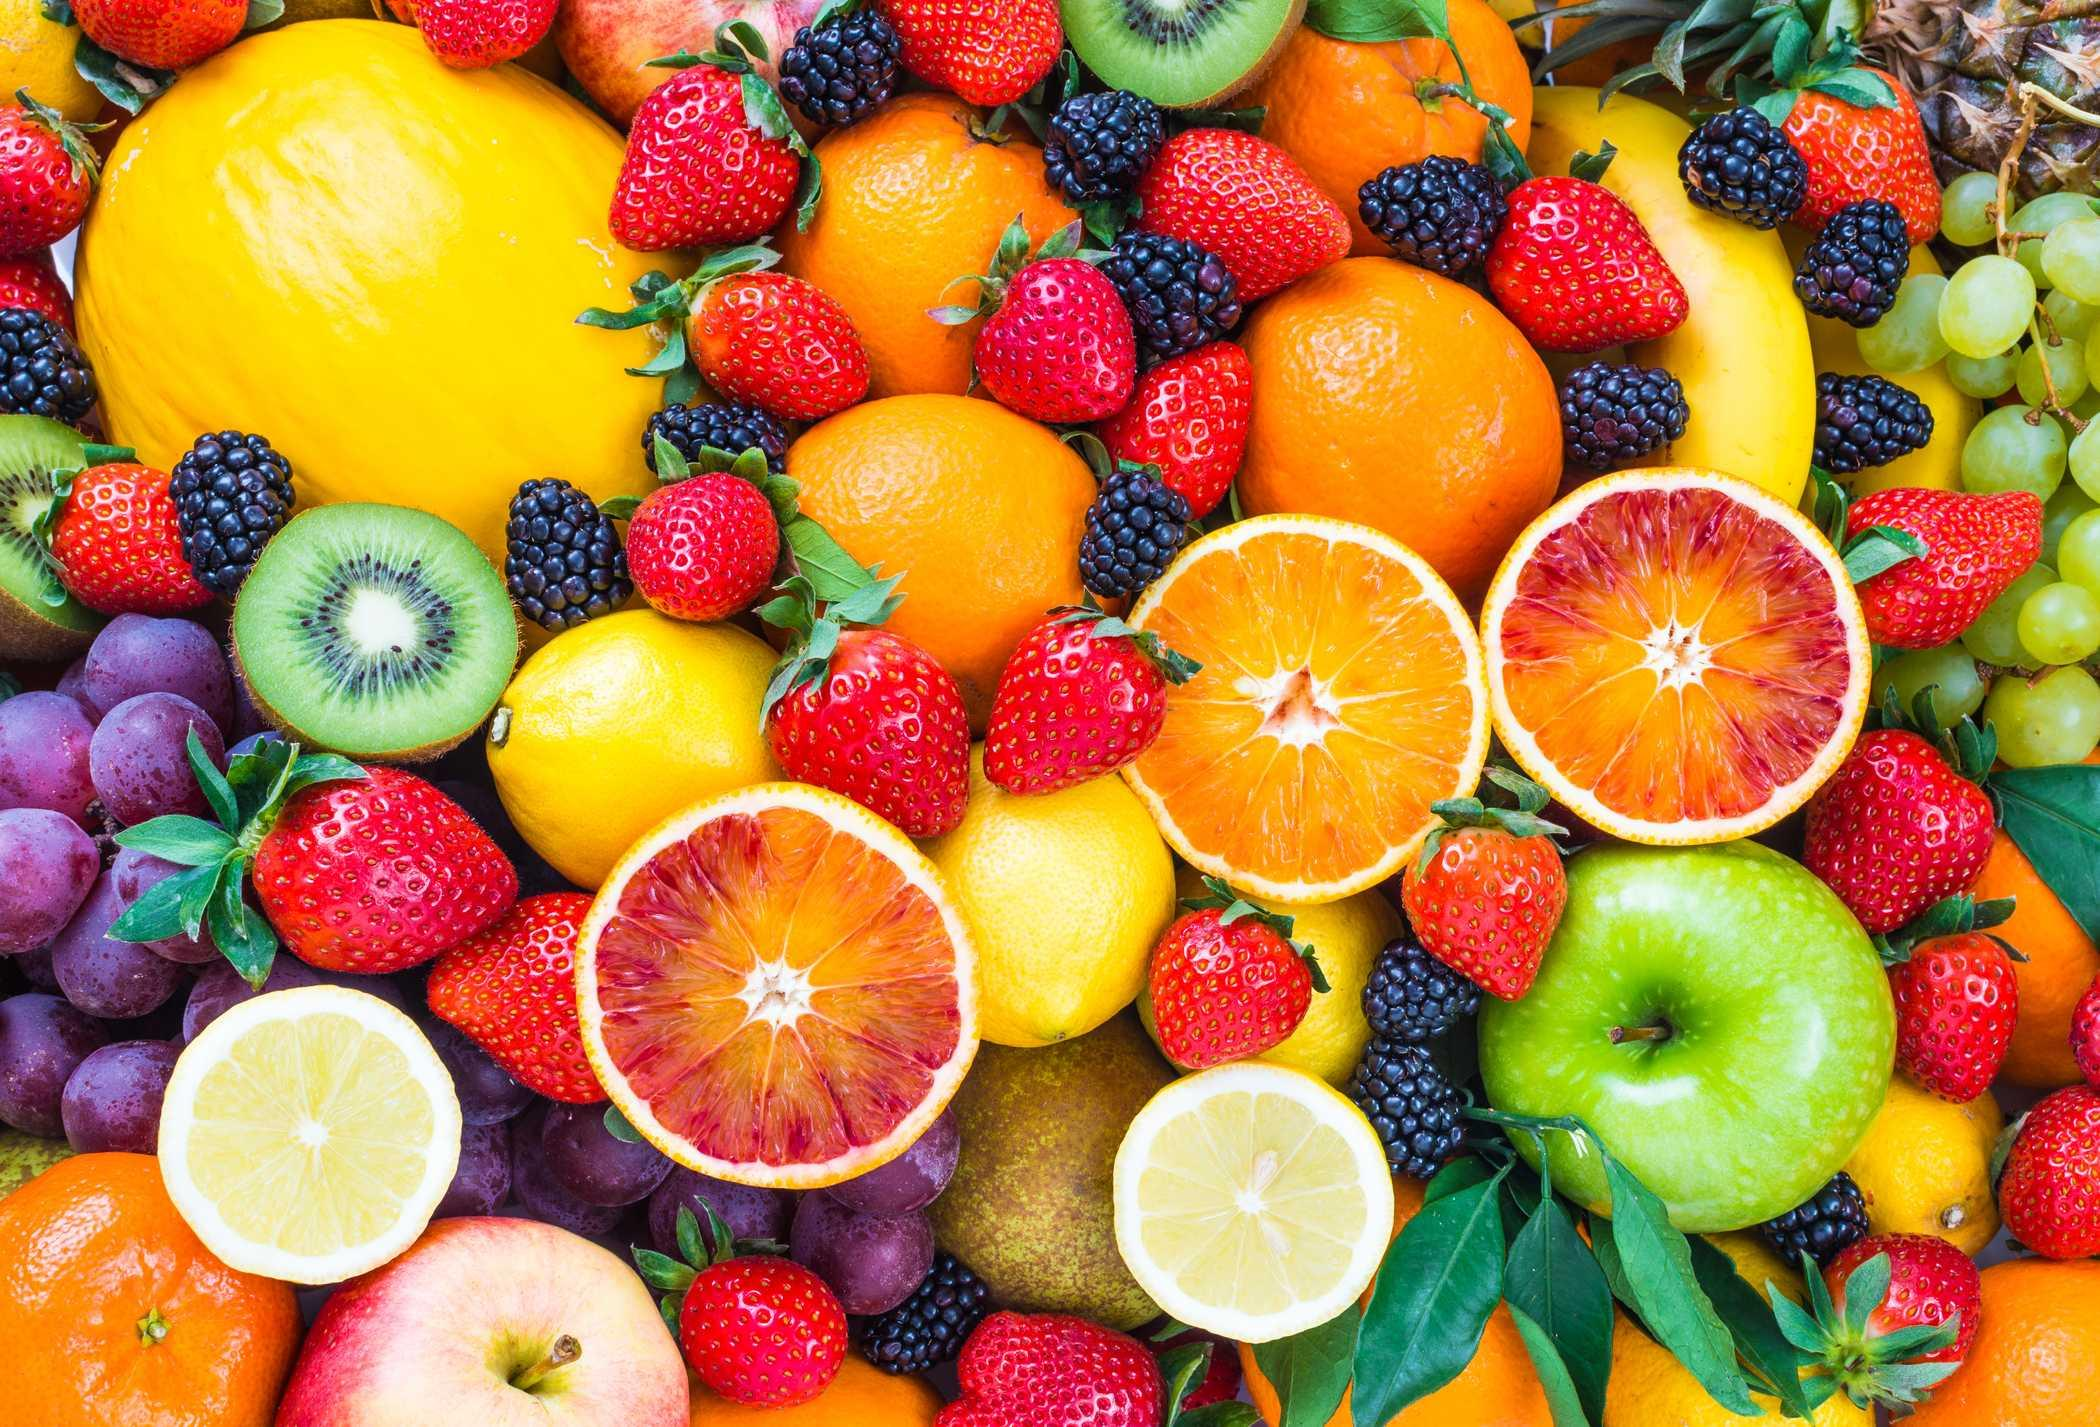apple: (280, 1220, 686, 1427)
grape: (1871, 170, 2100, 750), (0, 618, 232, 1155)
kiwi: (229, 503, 527, 757), (1060, 0, 1310, 111), (3, 417, 64, 639)
lemon: (162, 978, 471, 1292), (1105, 1058, 1403, 1351)
orange: (573, 772, 984, 1188), (1477, 468, 1863, 847), (1235, 260, 1559, 559), (782, 395, 1108, 645), (0, 1150, 288, 1427), (806, 97, 1060, 400), (1259, 0, 1575, 158)
strawberry: (1130, 510, 1485, 901), (140, 737, 517, 979), (750, 618, 971, 833), (608, 255, 896, 416), (605, 53, 807, 258), (1775, 1233, 1981, 1424), (1393, 807, 1575, 1019), (1805, 723, 1992, 924), (986, 600, 1165, 804), (1485, 166, 1688, 346), (943, 240, 1134, 428), (1153, 127, 1350, 303), (433, 887, 584, 1107), (1759, 61, 1946, 236), (672, 1247, 855, 1413), (1130, 890, 1313, 1054), (610, 468, 793, 629), (1847, 479, 2024, 645), (947, 1308, 1172, 1427), (1890, 898, 2011, 1097), (48, 457, 191, 612), (895, 0, 1075, 119), (1985, 1088, 2100, 1265), (1137, 342, 1245, 516), (65, 8, 266, 80), (5, 100, 96, 252)
